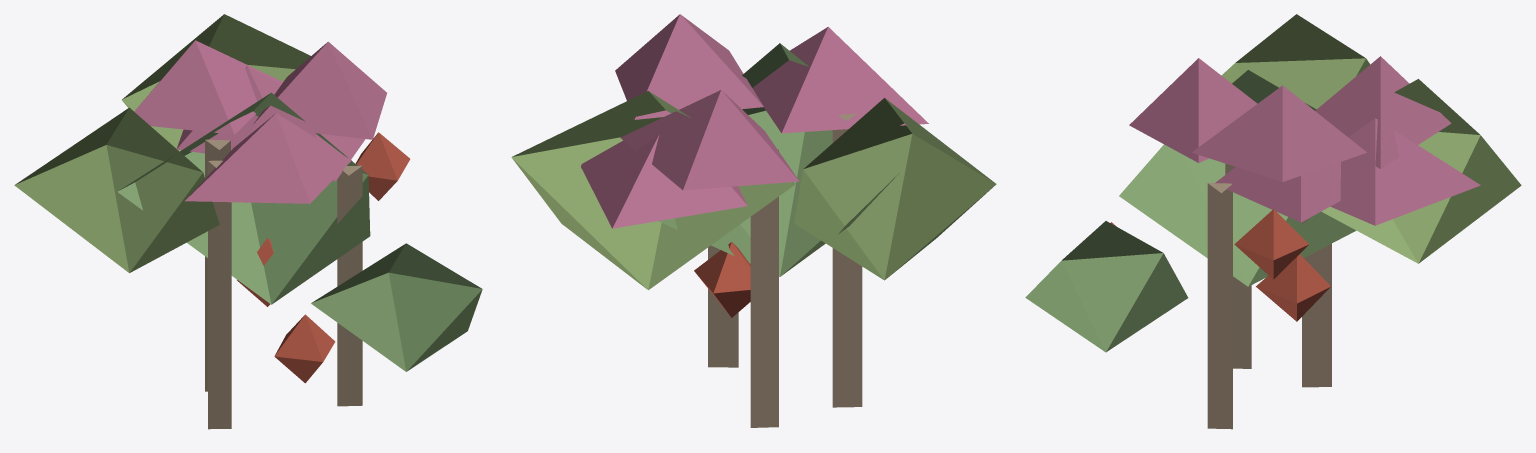
File: shrub.temp.bush__bloom.glb
3 renders of one model, left to right at view 1: azimuth 30°, elevation 25°; view 2: azimuth 150°, elevation 25°; view 3: azimuth 270°, elevation 25°, orthographic. The views are drawn at different scales.
Visible parts, largest first — view 1: shrub.temp.bush__bloom; view 2: shrub.temp.bush__bloom; view 3: shrub.temp.bush__bloom.
Boxes of the visible parts, x1,y1,x2,y2 form: shrub.temp.bush__bloom: [14, 14, 482, 429]; shrub.temp.bush__bloom: [511, 14, 996, 427]; shrub.temp.bush__bloom: [1025, 14, 1521, 429].
Size of the model in its own units: 1.94 by 1.77 by 2.27.
